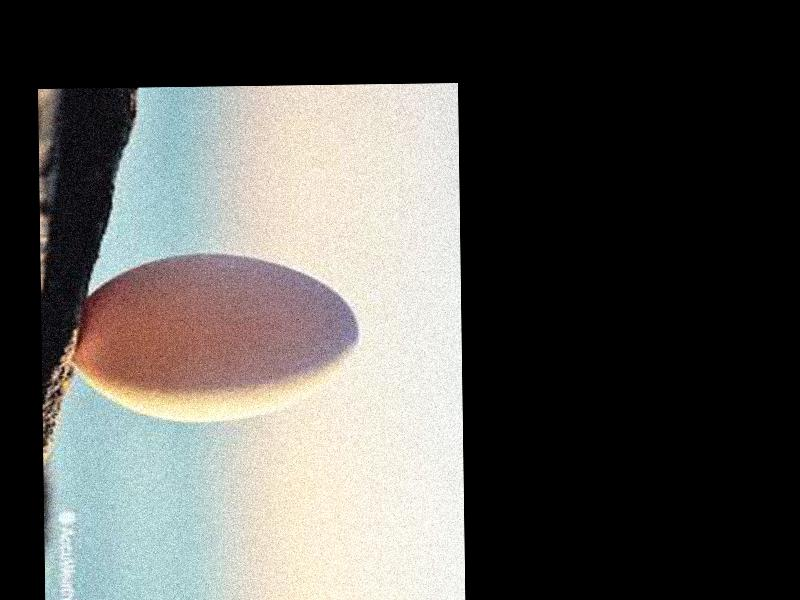Eggs: (75, 250, 362, 424)
